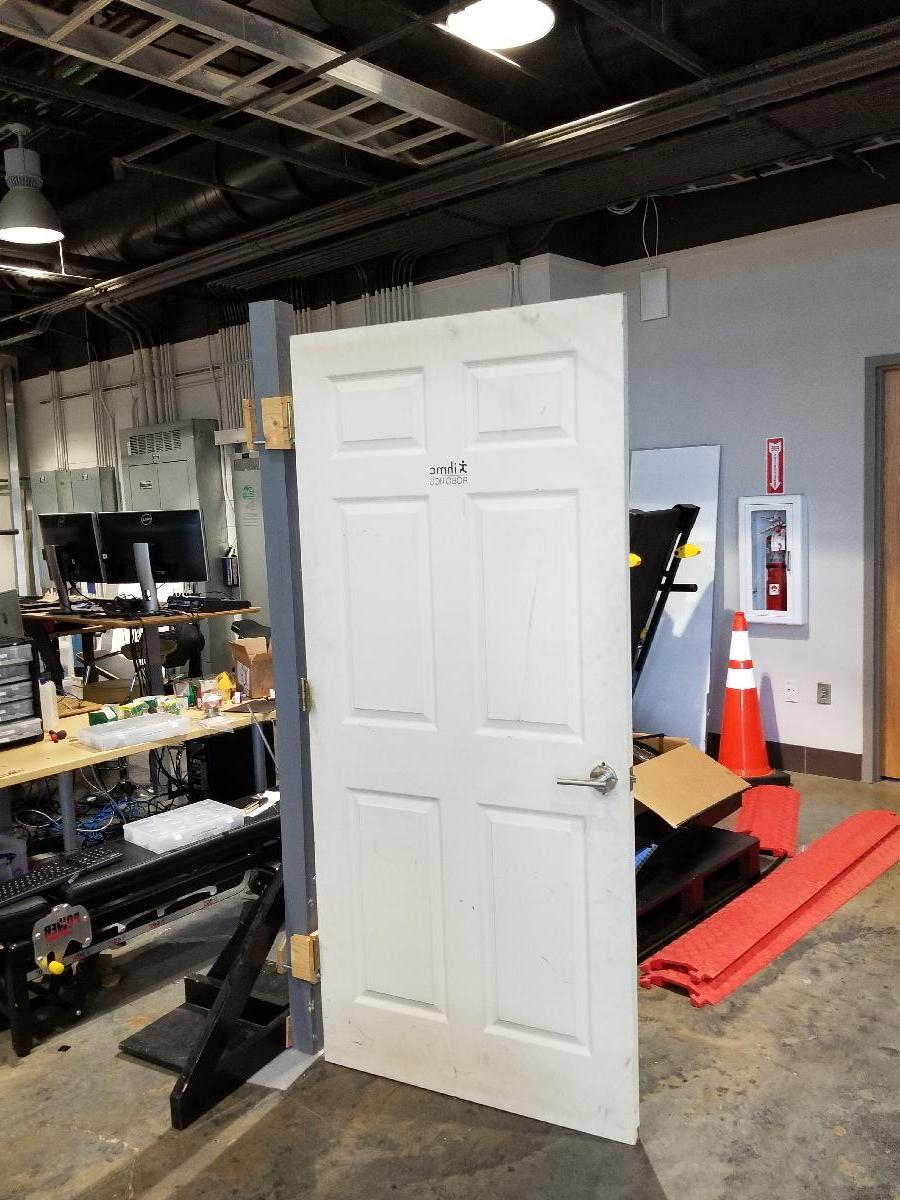door: (318, 293, 622, 1105)
handle: (559, 760, 624, 797)
